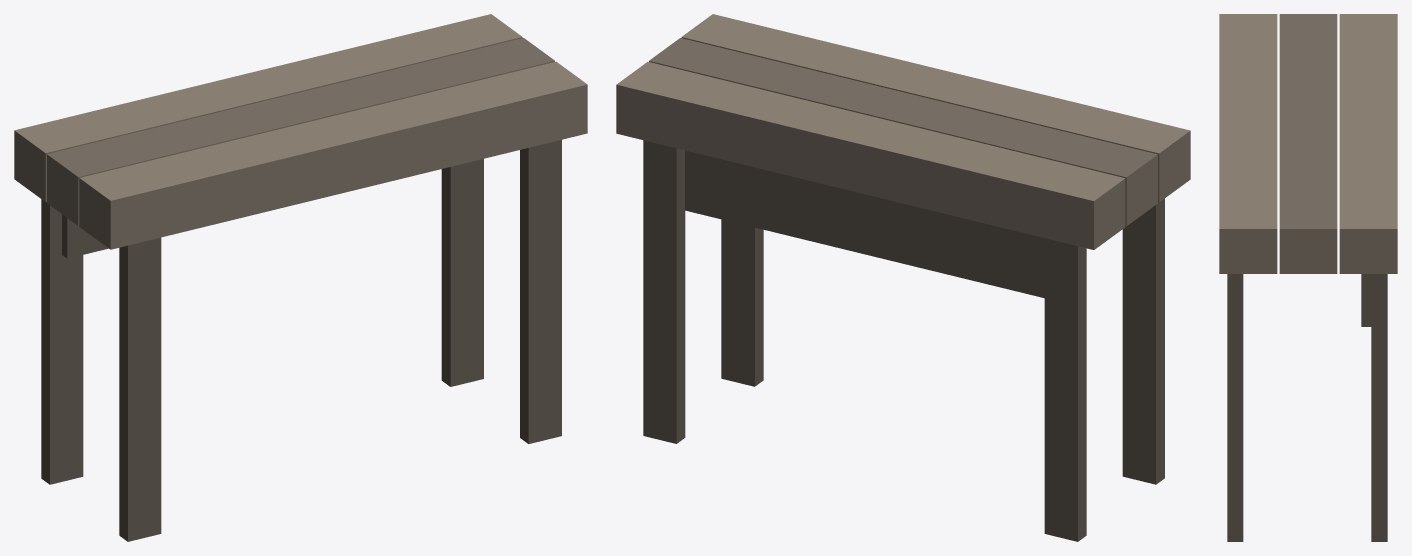
Rendered from side_table.glb.
3 views of the same model, side by side, from view 1: azimuth 30°, elevation 25°; view 2: azimuth 150°, elevation 25°; view 3: azimuth 270°, elevation 25° (orthographic). The views are drawn at different scales.
Visible parts, largest first — view 1: side_table; view 2: side_table; view 3: side_table.
Boxes of the visible parts, box(x1,y1,x2,y2) form: side_table: box(14, 14, 587, 541); side_table: box(616, 14, 1190, 541); side_table: box(1219, 14, 1397, 541).
Bounding box in the file's own units: 1 × 0.7 × 0.35.
